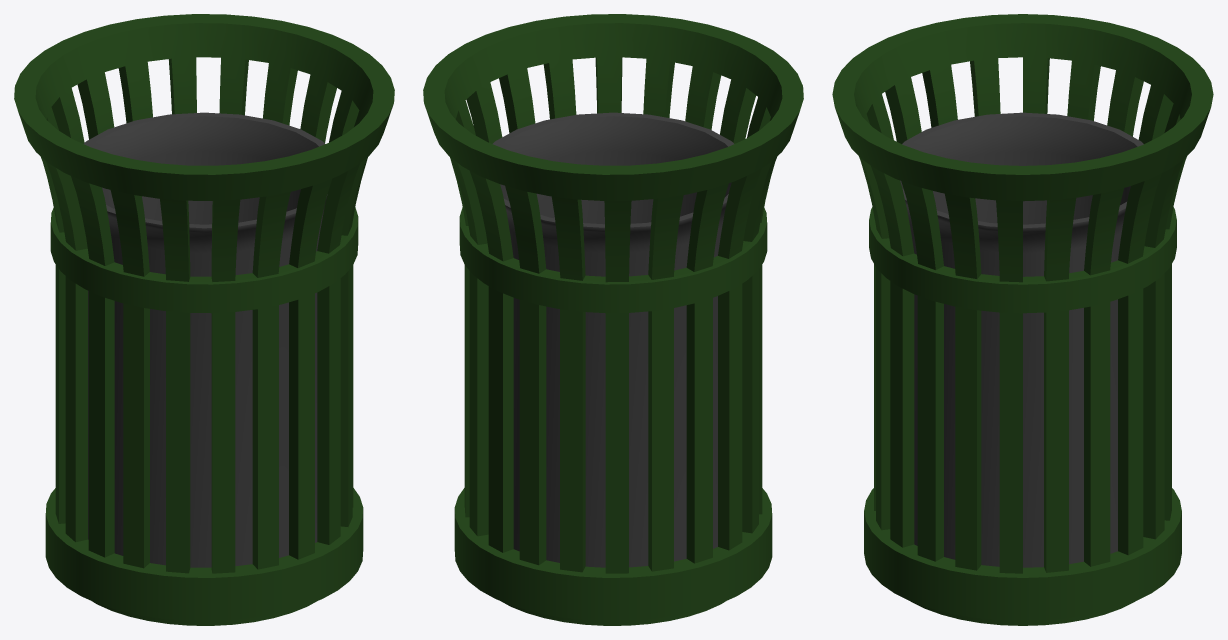
The model's file is trash.fbx.
The picture shows the model from 3 angles, left to right: view 1: azimuth 30°, elevation 25°; view 2: azimuth 150°, elevation 25°; view 3: azimuth 270°, elevation 25°; orthographic projection.
Visible parts, largest first — view 1: trash_triang_LP; view 2: trash_triang_LP; view 3: trash_triang_LP.
Boxes of the visible parts, x1,y1,x2,y2 form: trash_triang_LP: (14, 14, 394, 625); trash_triang_LP: (423, 14, 803, 625); trash_triang_LP: (832, 14, 1213, 625).
Bounding box in the file's own units: 295 × 404 × 295.
